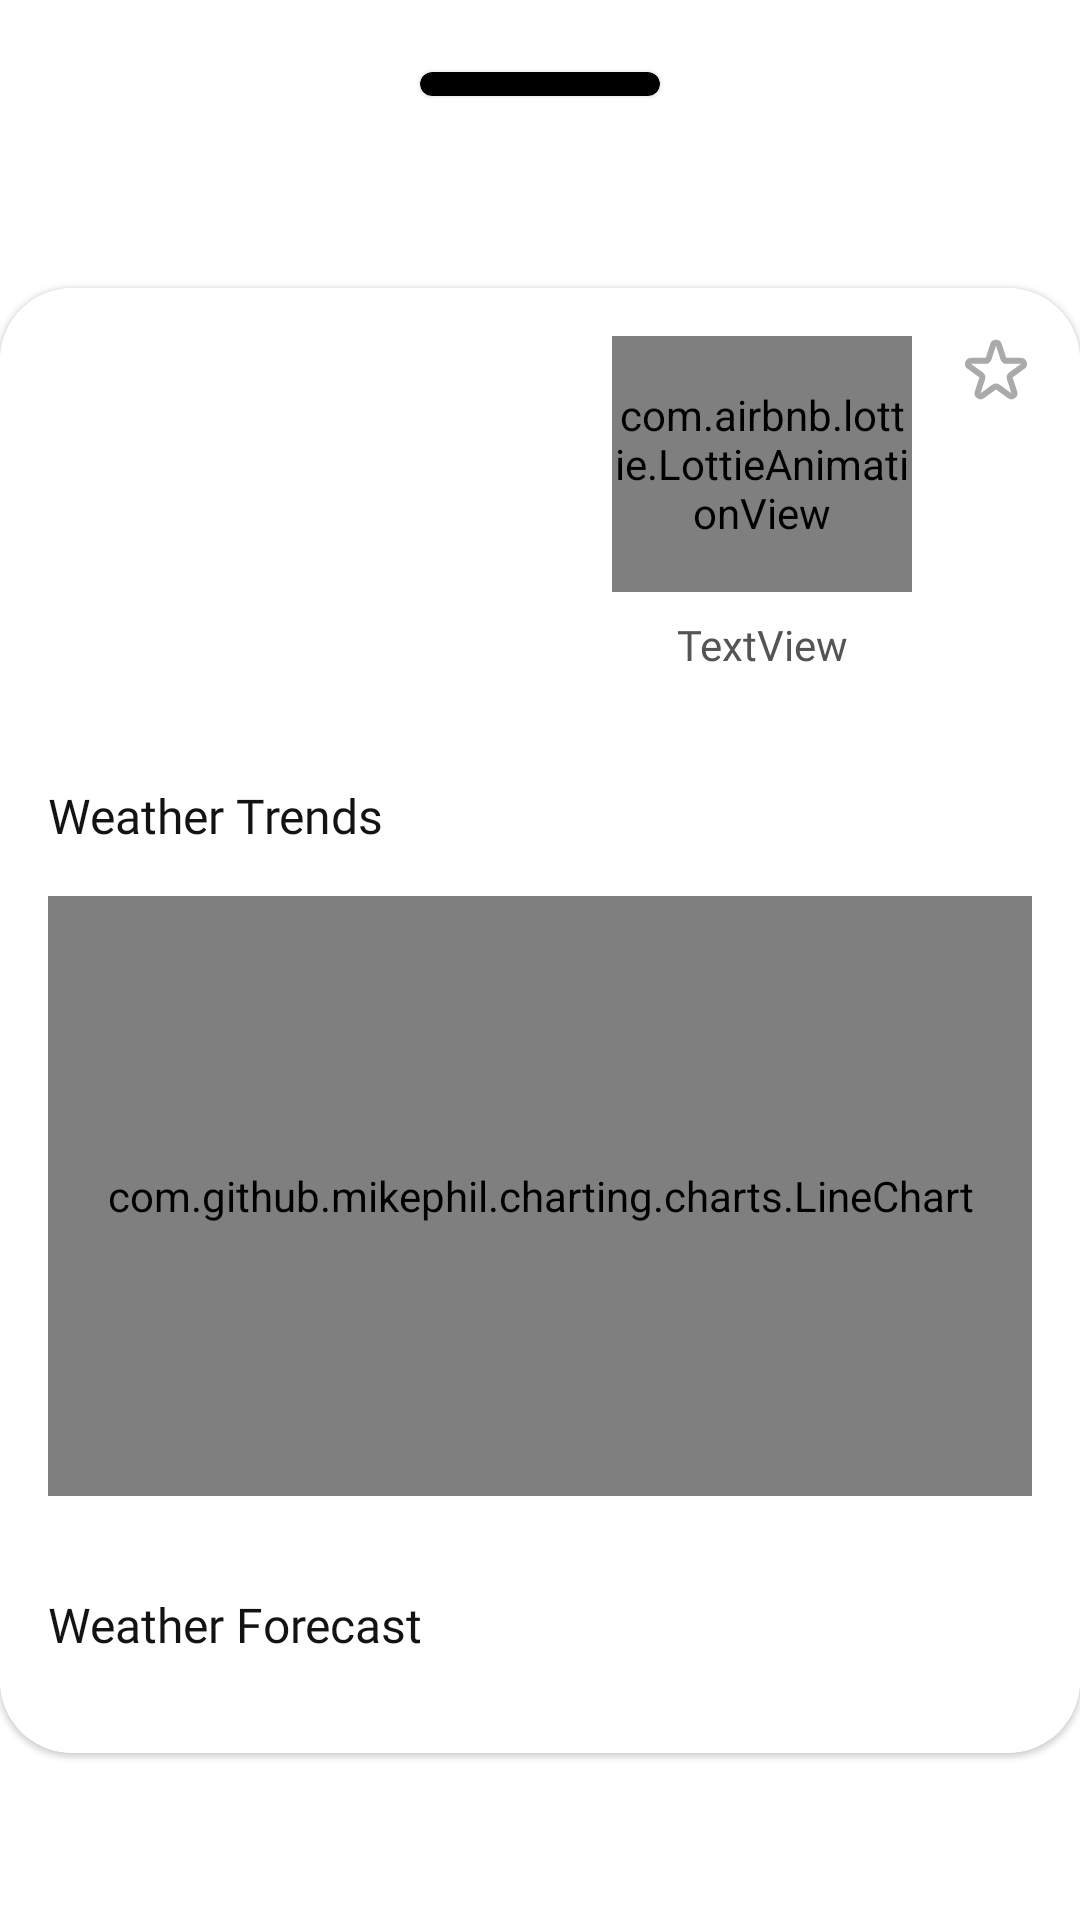

Icons on this 1080w x 1920h Android screen, each with the point to tap as [x,y]:
favorite: [996,370]
